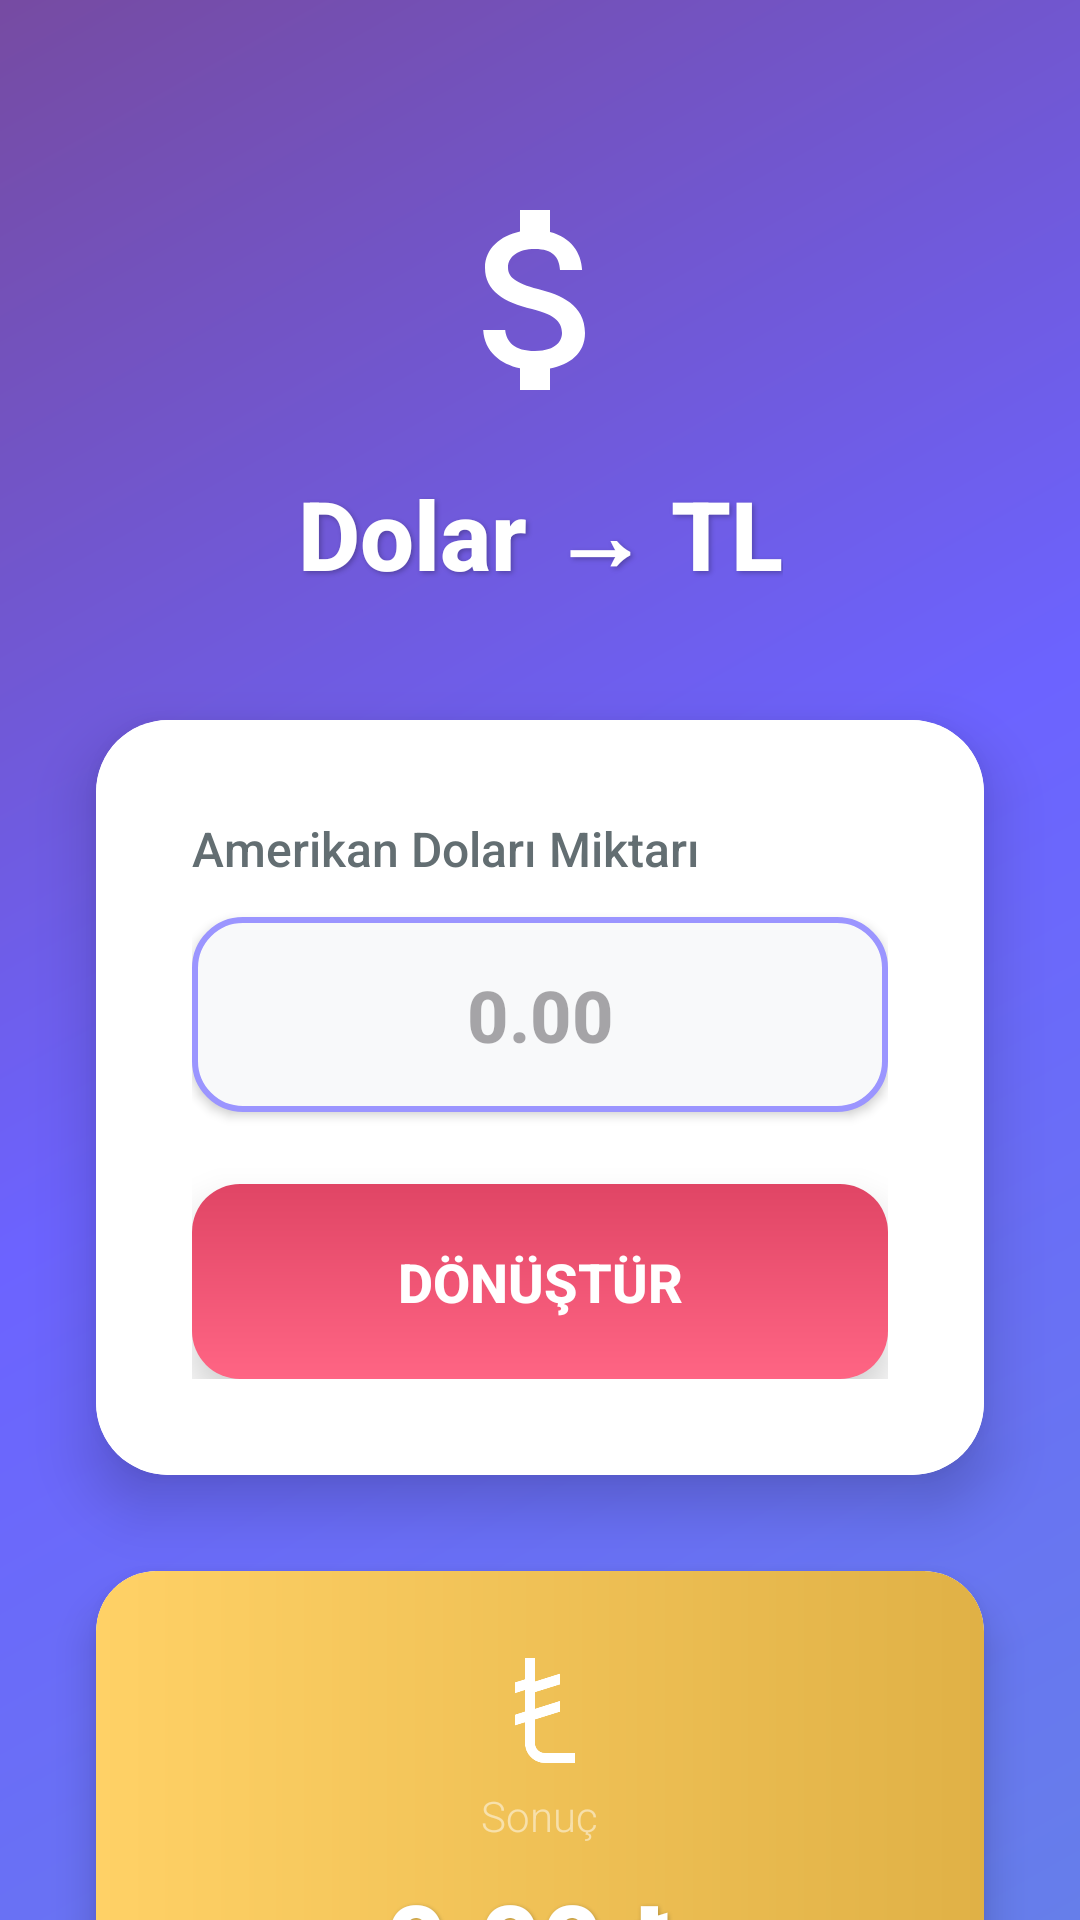

Icons on this 1080w x 1920h Android screen, each with its box as (x1, y1, x2, y2):
lira: (515, 1658, 575, 1763)
